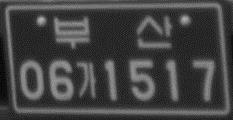0: (18, 58, 46, 100)
1: (162, 57, 184, 105), (102, 59, 121, 102)
5: (127, 58, 157, 103)
6: (47, 59, 75, 101)
7: (189, 56, 218, 103)
가: (75, 60, 99, 101)
부산_D: (51, 13, 174, 50)
